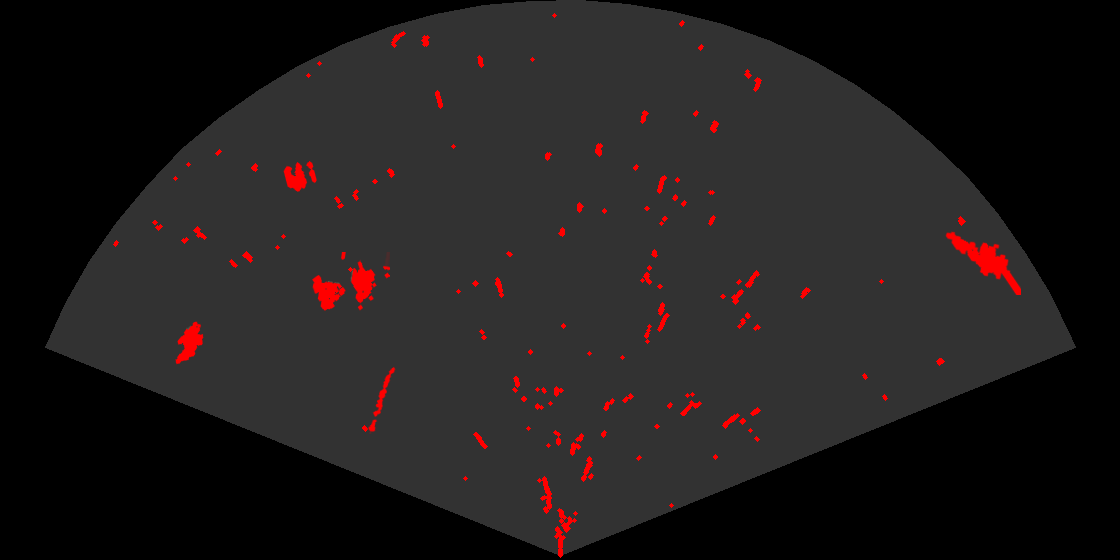AUV: (174, 320, 205, 366)
ball: (282, 159, 318, 193)
cage: (311, 252, 390, 312)
chain: (367, 365, 397, 434)
frogman: (944, 230, 1021, 295)
